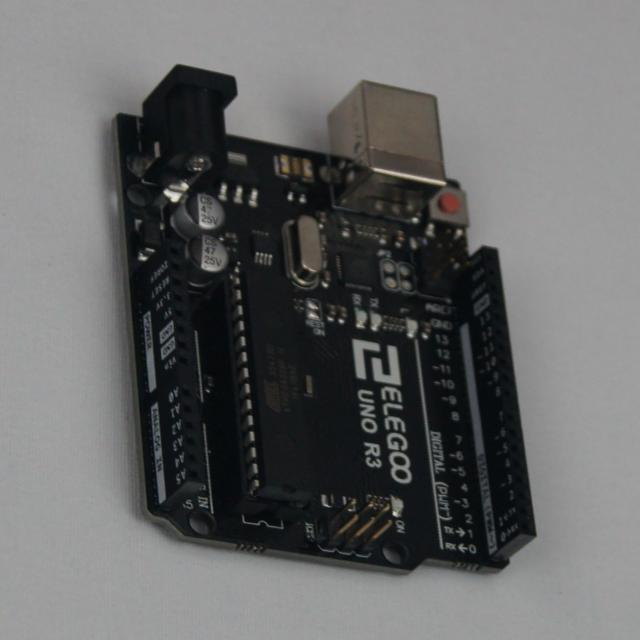Arduino Uno -Black-: (117, 66, 536, 573)
